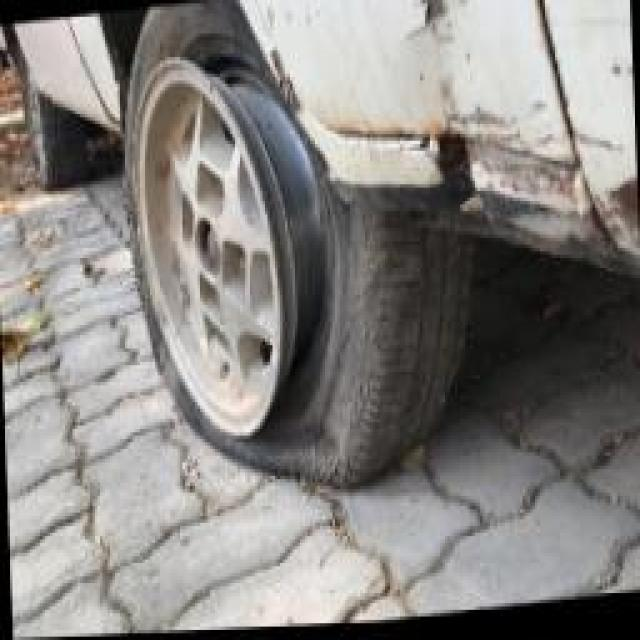Bumper: (322, 0, 638, 272)
